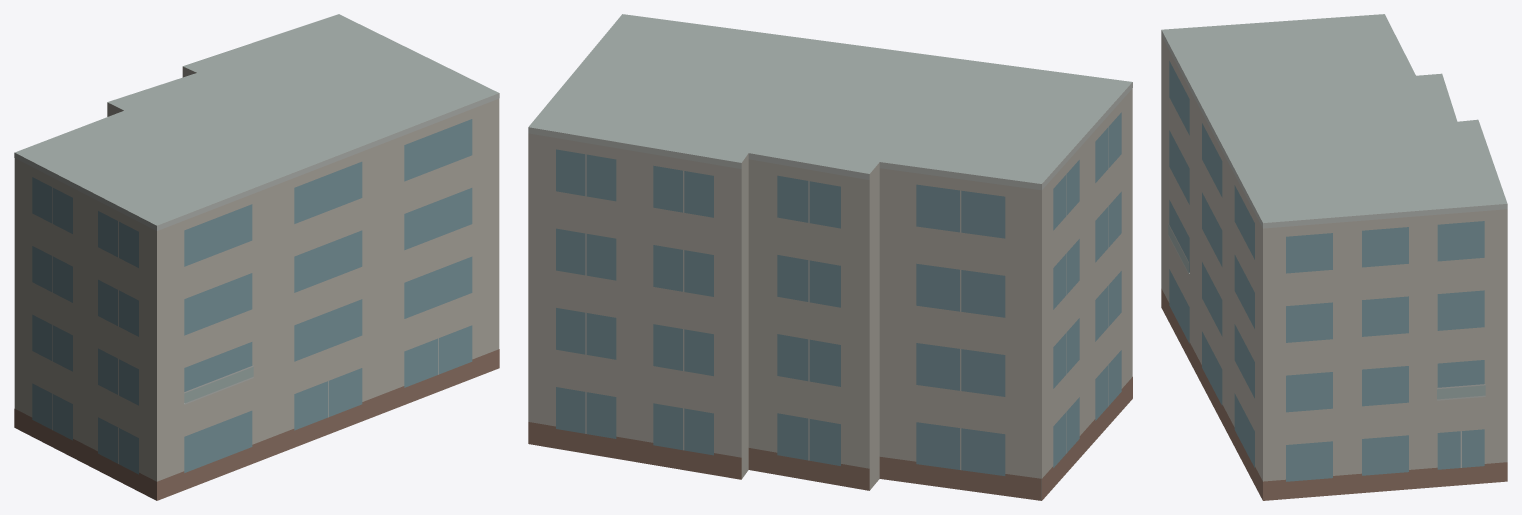
File: survey-upis-32942374.glb
3 renders of one model, left to right at view 1: azimuth 30°, elevation 25°; view 2: azimuth 150°, elevation 25°; view 3: azimuth 270°, elevation 25°, orthographic. The views are drawn at different scales.
Visible parts, largest first — view 1: survey-upis-32942374.tmp; view 2: survey-upis-32942374.tmp; view 3: survey-upis-32942374.tmp.
Part boxes in pixels (bbox=[...]): survey-upis-32942374.tmp: bbox=[14, 14, 499, 500]; survey-upis-32942374.tmp: bbox=[528, 14, 1132, 500]; survey-upis-32942374.tmp: bbox=[1161, 14, 1507, 500].
Bounding box in the file's own units: 20.2 × 12.5 × 14.13.
